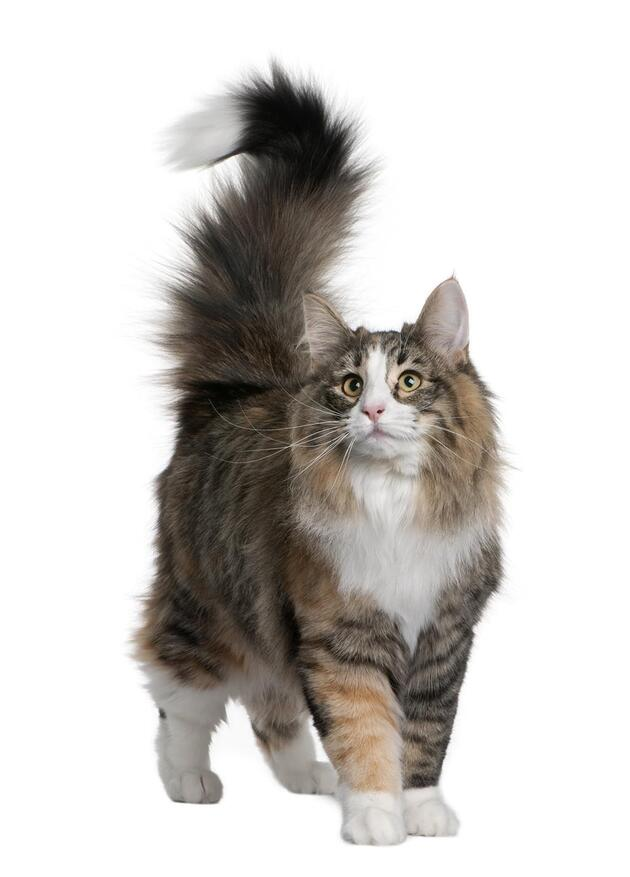cat: (236, 331, 477, 786)
